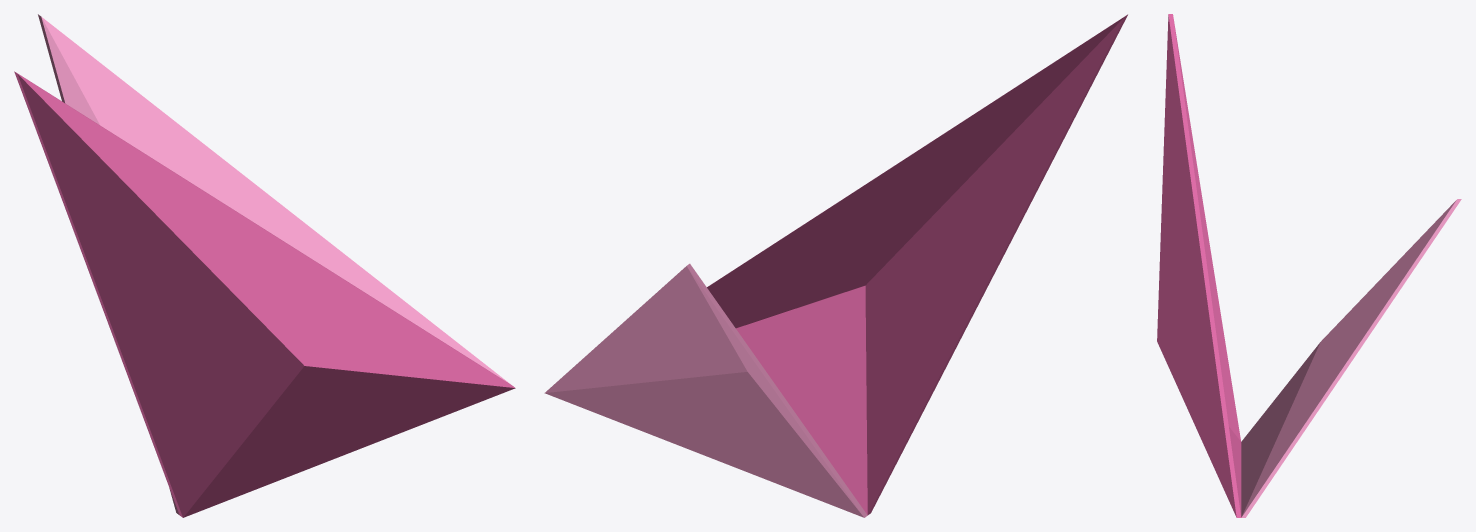
3 views of the same model, side by side, from view 1: azimuth 30°, elevation 25°; view 2: azimuth 150°, elevation 25°; view 3: azimuth 270°, elevation 25° (orthographic). The views are drawn at different scales.
Parts seen in each view (by area): view 1: 前后上扬折翼.001; view 2: 前后上扬折翼.001; view 3: 前后上扬折翼.001.
Part boxes in pixels (x1=…): 前后上扬折翼.001: x1=14, y1=14, x2=515, y2=517; 前后上扬折翼.001: x1=544, y1=14, x2=1127, y2=517; 前后上扬折翼.001: x1=1157, y1=14, x2=1461, y2=517.
Size of the model in its own units: 0.7455 by 0.693 by 0.536.
